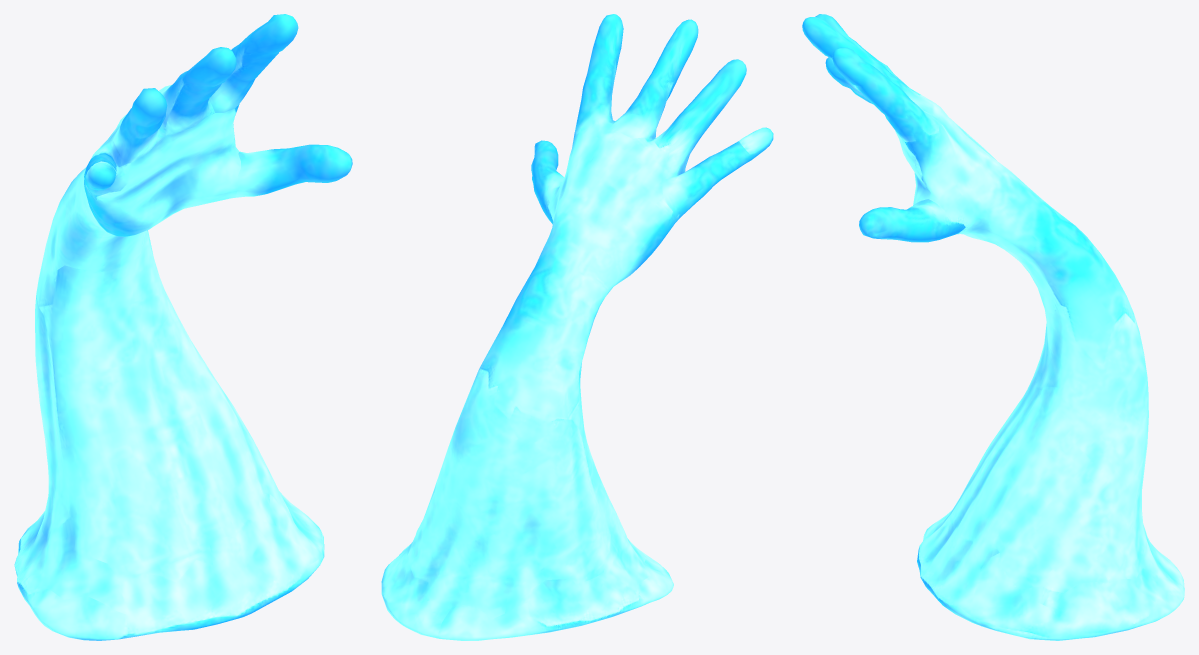
Rendered from MZ4250 - Mage Hand_blue.glb.
3 renders of one model, left to right at view 1: azimuth 30°, elevation 25°; view 2: azimuth 150°, elevation 25°; view 3: azimuth 270°, elevation 25°, orthographic. The views are drawn at different scales.
Parts seen in each view (by area): view 1: Hand open.001; view 2: Hand open.001; view 3: Hand open.001.
Part boxes in pixels (x1,y1,x2,y2): Hand open.001: [14, 14, 352, 640]; Hand open.001: [381, 14, 773, 640]; Hand open.001: [802, 14, 1184, 640].
Size of the model in its own units: 0.3569 by 0.6318 by 0.4072.
1 material, 1 textured.
